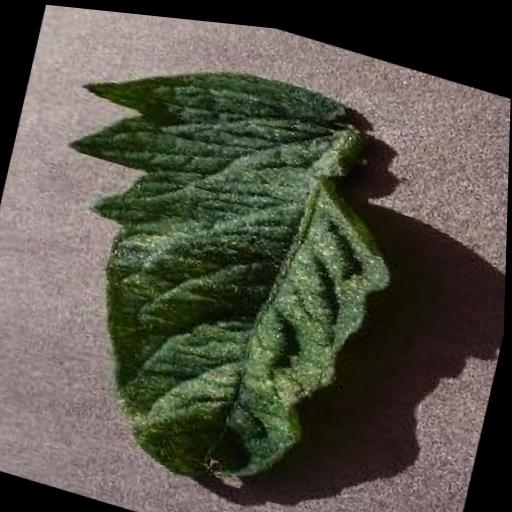Spider Mites: (4, 17, 427, 512)
